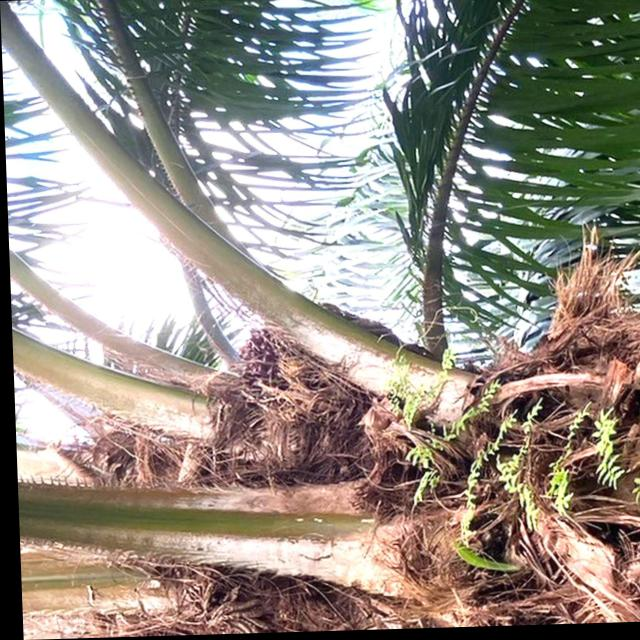ripe: (218, 315, 314, 405)
